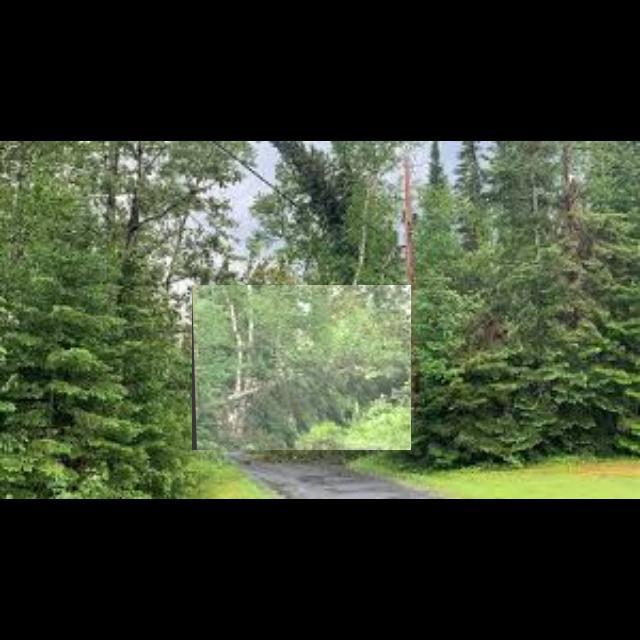fallen_tree: (192, 285, 412, 451)
